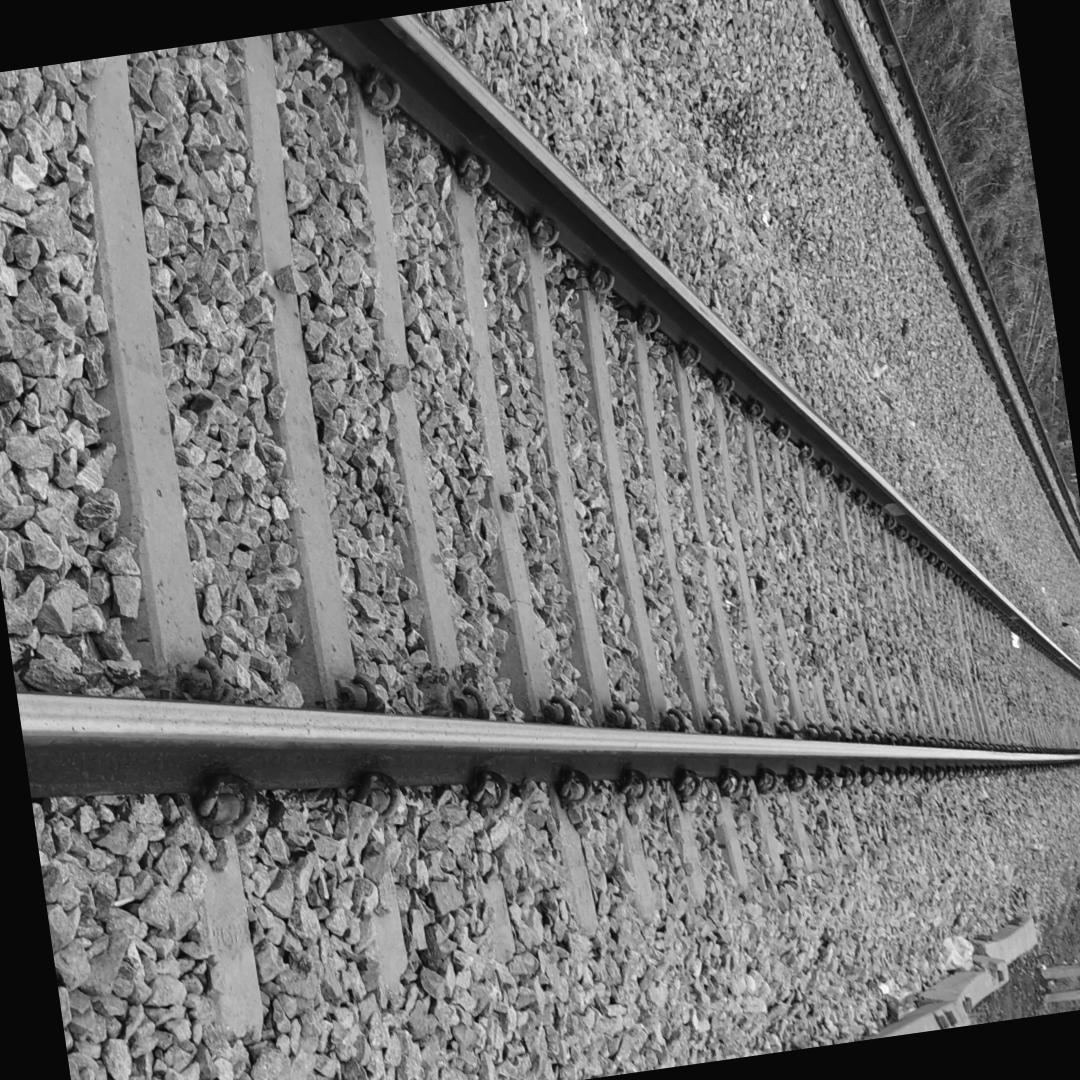track: (0, 7, 1080, 867)
